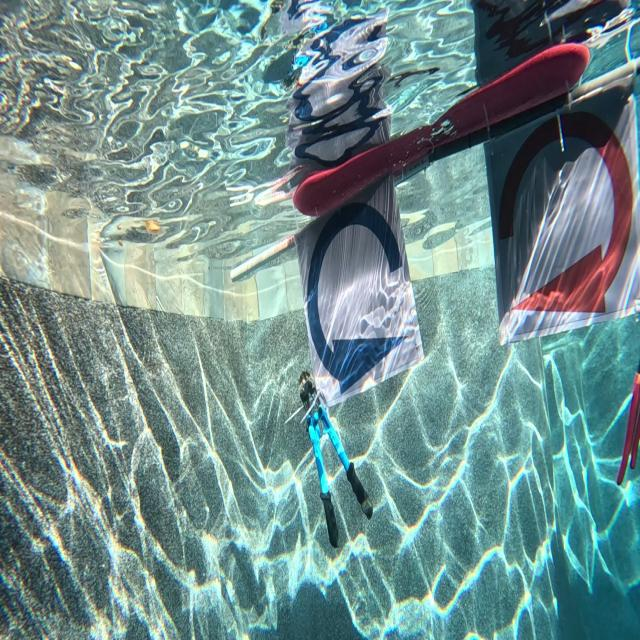blue_side: (304, 202, 411, 404)
red_side: (500, 100, 622, 310)
